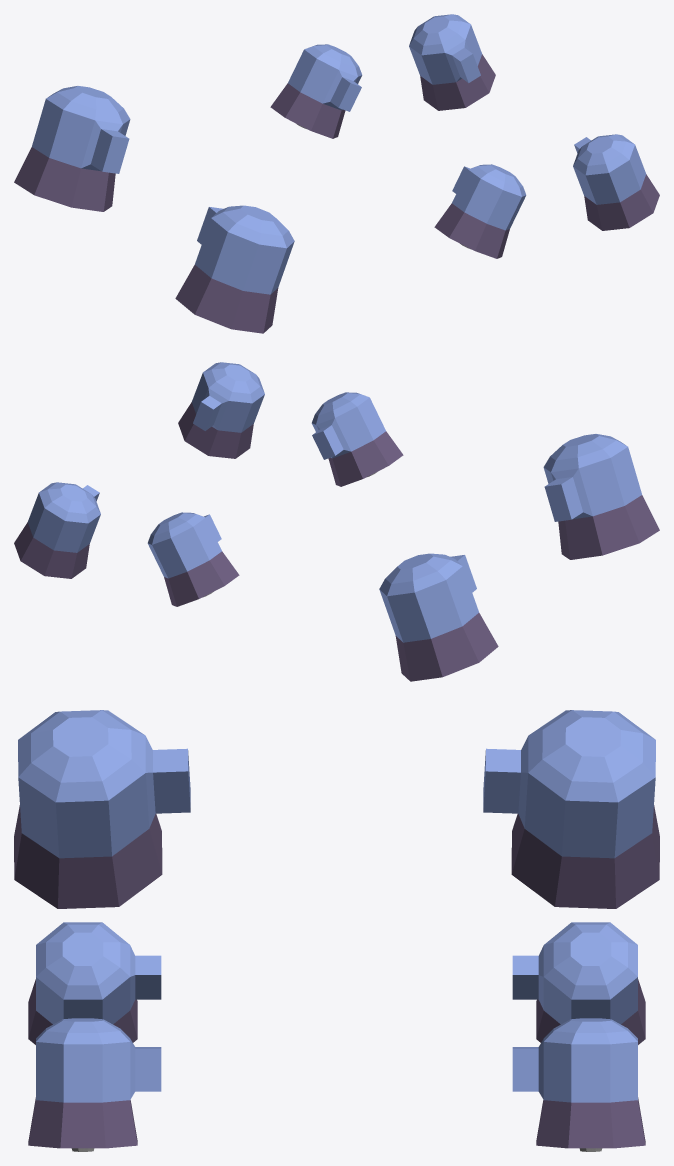
File: RetroThrusters.glb
The picture shows the model from 3 angles, top to bottom: view 1: azimuth 30°, elevation 25°; view 2: azimuth 150°, elevation 25°; view 3: azimuth 270°, elevation 25°; orthographic projection. The views are drawn at different scales.
Visible parts, largest first — view 1: ThrusterBack.Retro, ThrusterFront.Retro, ThrusterMid.Retro; view 2: ThrusterBack.Retro, ThrusterFront.Retro, ThrusterMid.Retro; view 3: ThrusterBack.Retro, ThrusterFront.Retro, ThrusterMid.Retro.
Part boxes in pixels (left/top/right/bottom): ThrusterBack.Retro: left=14, top=86, right=294, bottom=333; ThrusterFront.Retro: left=409, top=14, right=659, bottom=230; ThrusterMid.Retro: left=270, top=44, right=526, bottom=258; ThrusterBack.Retro: left=379, top=434, right=659, bottom=681; ThrusterFront.Retro: left=14, top=362, right=264, bottom=578; ThrusterMid.Retro: left=147, top=392, right=403, bottom=606; ThrusterBack.Retro: left=14, top=710, right=659, bottom=908; ThrusterFront.Retro: left=28, top=1018, right=645, bottom=1151; ThrusterMid.Retro: left=28, top=922, right=645, bottom=1044.
Size of the model in its own units: 37.23 by 8.69 by 28.85.
Materials: 3 (1 with a texture image).
